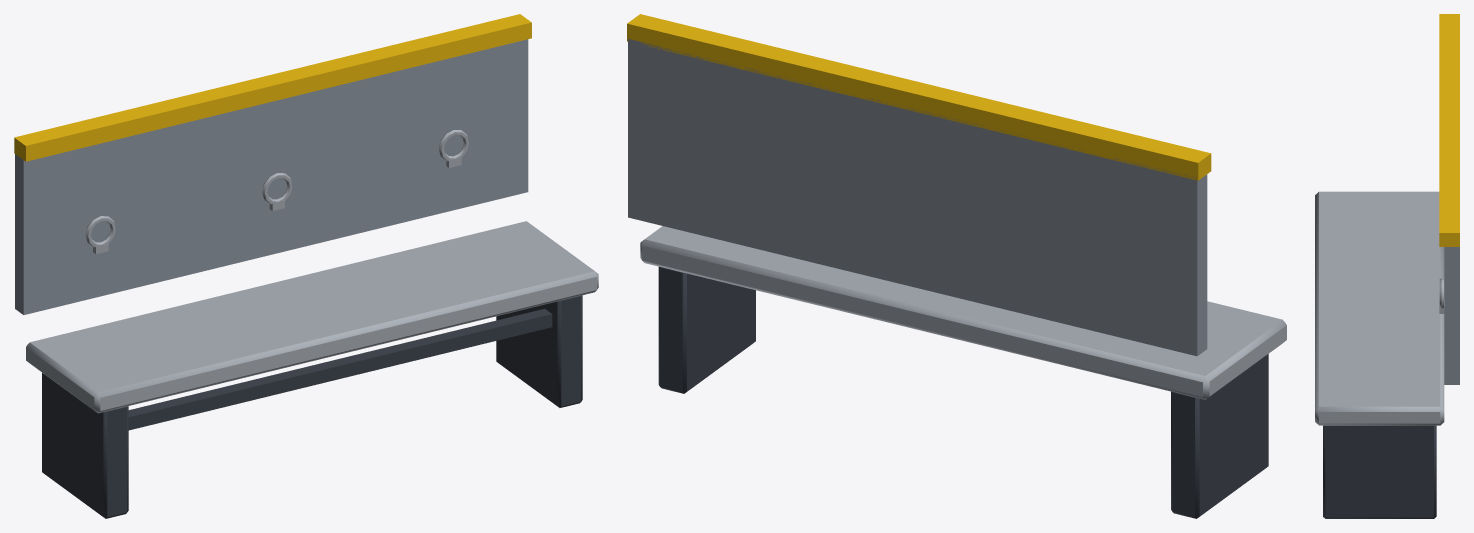
The model's file is cell_holding_bench.glb.
3 views of the same model, side by side, from view 1: azimuth 30°, elevation 25°; view 2: azimuth 150°, elevation 25°; view 3: azimuth 270°, elevation 25° (orthographic). The views are drawn at different scales.
Visible parts, largest first — view 1: cell_holding_bench; view 2: cell_holding_bench; view 3: cell_holding_bench.
Part boxes in pixels (x1=…): cell_holding_bench: x1=14, y1=14, x2=598, y2=518; cell_holding_bench: x1=627, y1=14, x2=1286, y2=518; cell_holding_bench: x1=1315, y1=14, x2=1459, y2=518.
Size of the model in its own units: 2.01 by 1.25 by 0.56.
